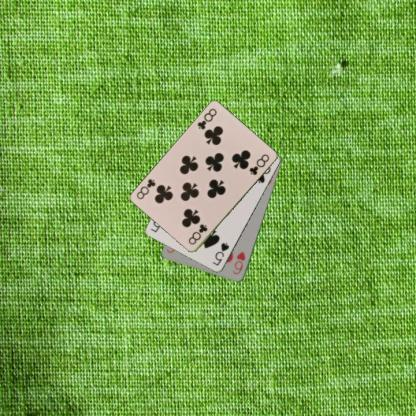5s: (210, 240, 230, 267)
6h: (230, 249, 247, 276)
8c: (195, 106, 218, 131), (186, 222, 208, 246)
